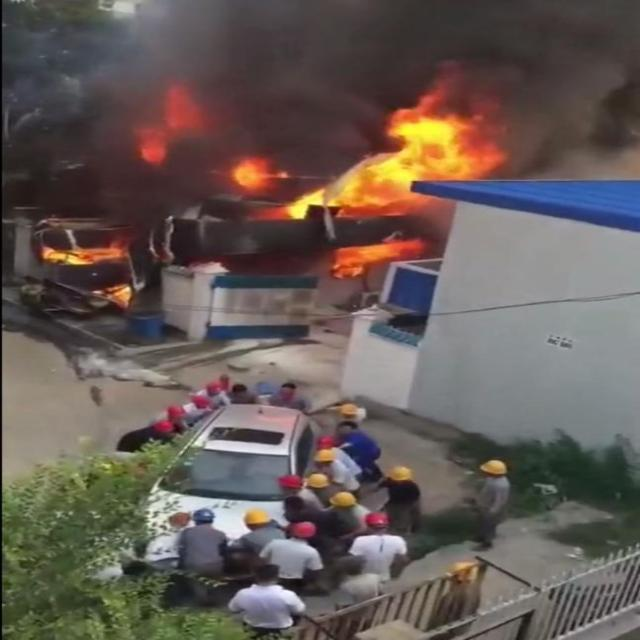Fire: (282, 80, 512, 220), (132, 83, 199, 165), (330, 238, 426, 279), (38, 240, 126, 266), (232, 156, 270, 189), (90, 281, 133, 308)
Smoke: (91, 0, 640, 70), (512, 75, 640, 180)
